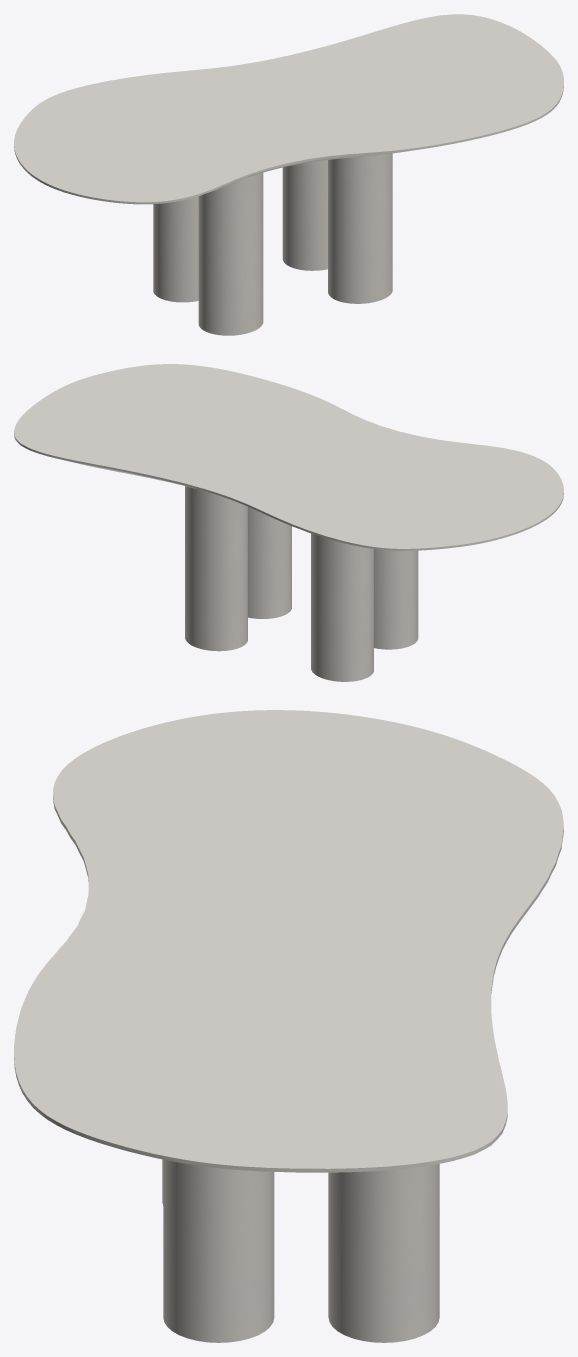
Rendered from pearlwhite_wave_facet_grove.glb.
The picture shows the model from 3 angles, top to bottom: view 1: azimuth 30°, elevation 25°; view 2: azimuth 150°, elevation 25°; view 3: azimuth 270°, elevation 25°; orthographic projection. The views are drawn at different scales.
Parts seen in each view (by area): view 1: facet_wave, grove; view 2: facet_wave, grove; view 3: facet_wave, grove.
Boxes of the visible parts, box(x1,y1,x2,y2) form: facet_wave: box(14, 14, 563, 204); grove: box(153, 153, 392, 335); facet_wave: box(14, 364, 563, 550); grove: box(185, 486, 418, 681); facet_wave: box(14, 710, 563, 1172); grove: box(162, 1159, 439, 1342).
Bounding box in the file's own units: 7.5 × 2.51 × 3.8.
1 material, 1 textured.
